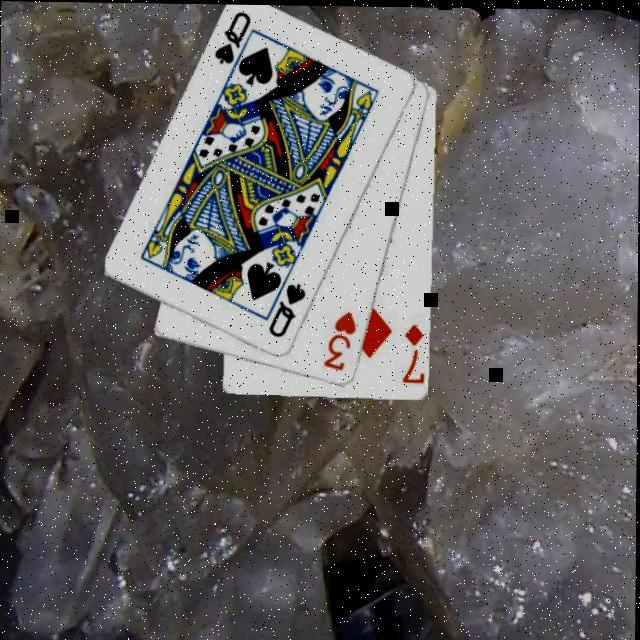3H: (321, 308, 360, 374)
7D: (401, 321, 427, 387)
QS: (268, 281, 310, 341), (212, 9, 254, 68)
